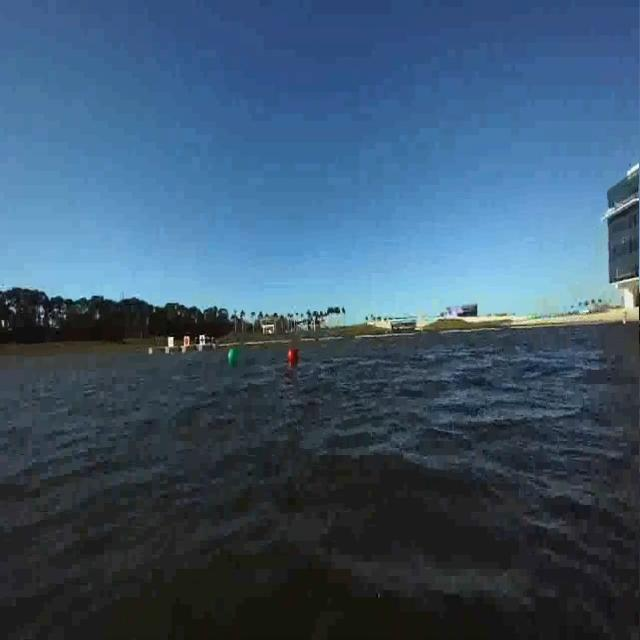green-buoy: (227, 348, 240, 367)
red-buoy: (289, 349, 298, 363)
